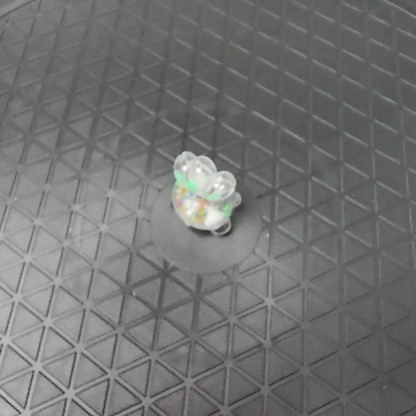whitefish: (166, 146, 244, 238)
